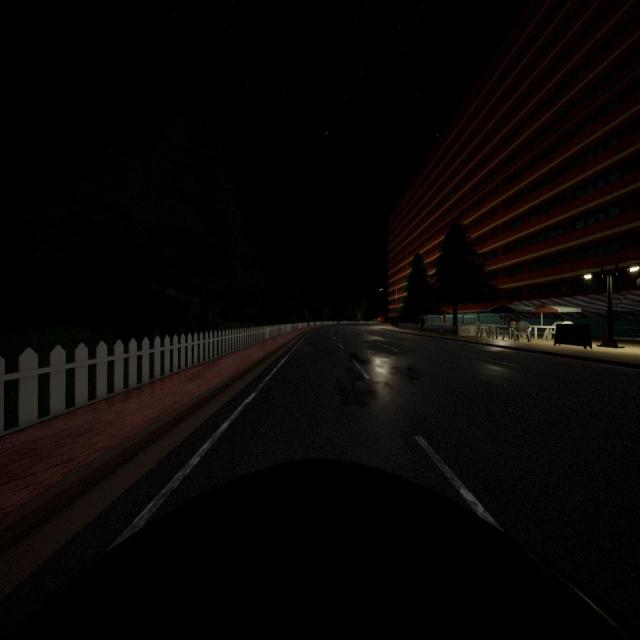Pedestrian: (419, 315, 426, 333)
Vehicle: (0, 456, 640, 640), (374, 316, 384, 324)
